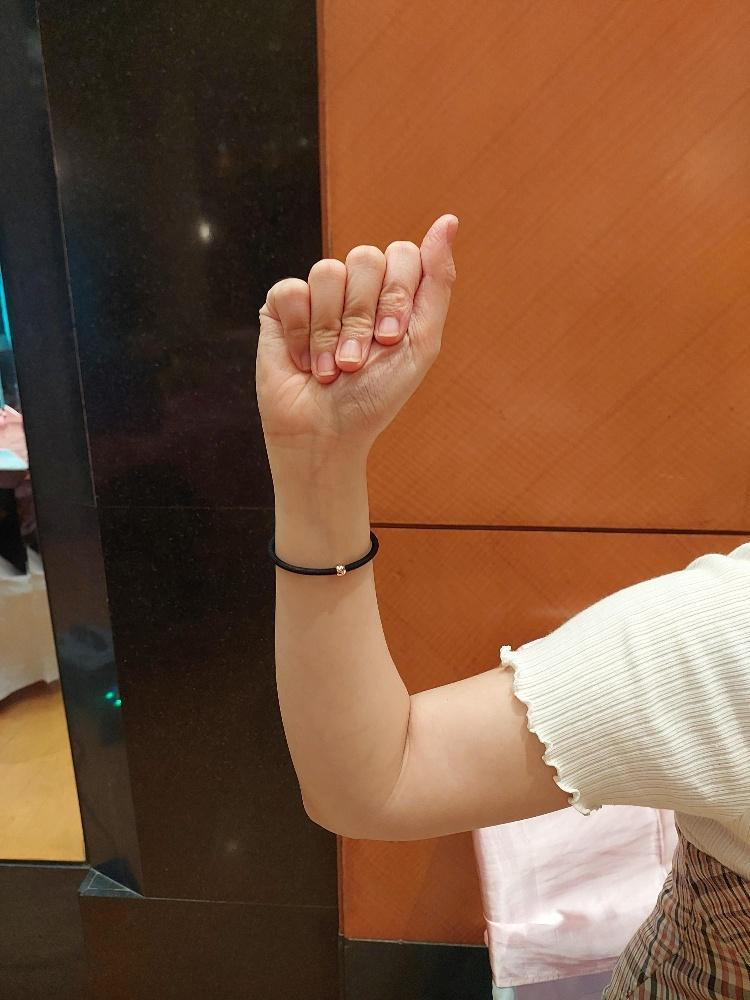a: (251, 210, 460, 451)
